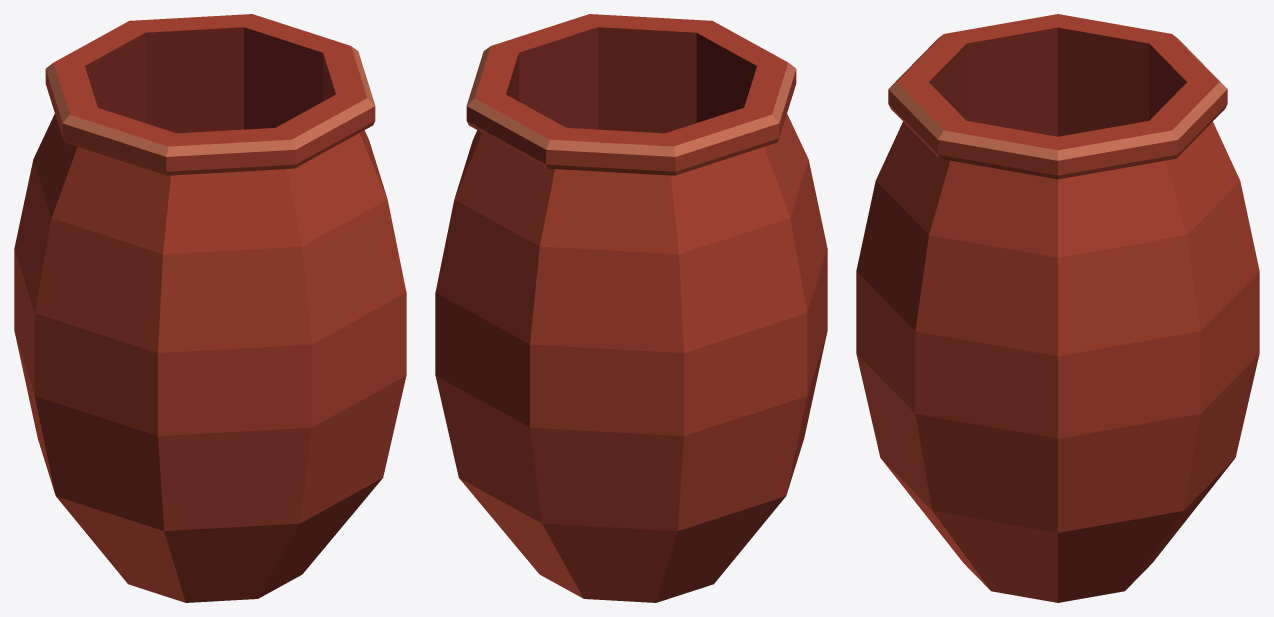
Rendered from Pot_01.glb.
The picture shows the model from 3 angles, left to right: view 1: azimuth 30°, elevation 25°; view 2: azimuth 150°, elevation 25°; view 3: azimuth 270°, elevation 25°; orthographic projection.
Parts seen in each view (by area): view 1: Pot_01; view 2: Pot_01; view 3: Pot_01.
Boxes of the visible parts, left/top/right/bottom form: Pot_01: left=14, top=14, right=406, bottom=602; Pot_01: left=435, top=14, right=827, bottom=602; Pot_01: left=856, top=14, right=1259, bottom=602.
Size of what is drawn, in the model's own units: 0.673 by 0.8853 by 0.673.
Materials: 1 (1 with a texture image).
